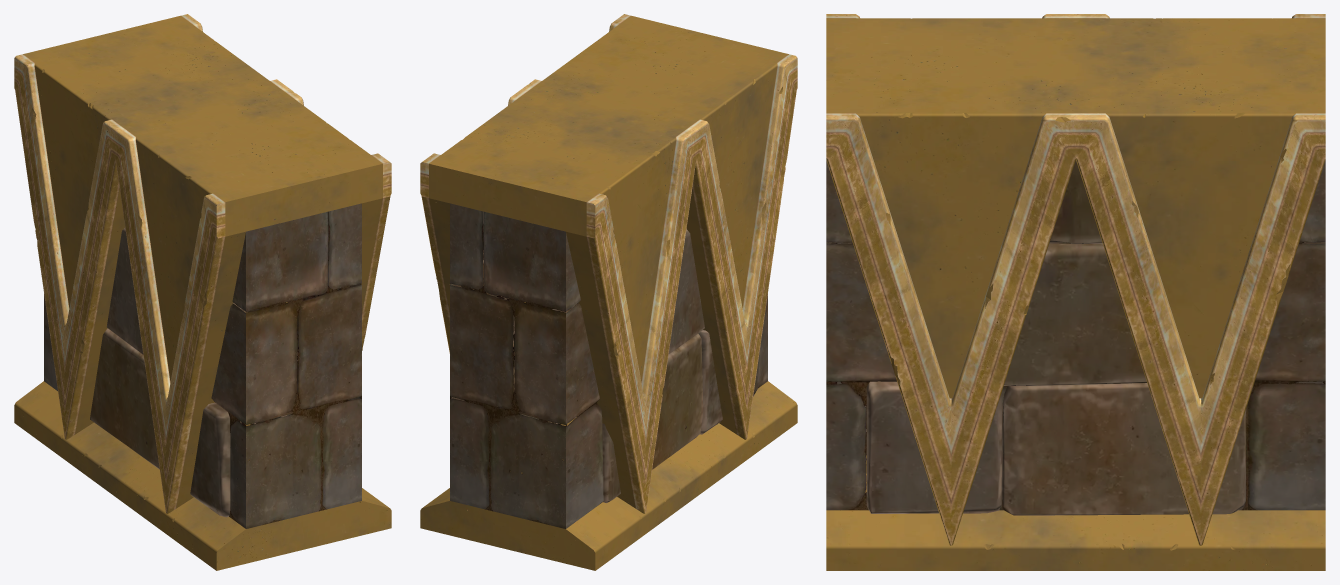
The picture shows the model from 3 angles, left to right: view 1: azimuth 30°, elevation 25°; view 2: azimuth 150°, elevation 25°; view 3: azimuth 270°, elevation 25°; orthographic projection. The views are drawn at different scales.
Parts seen in each view (by area): view 1: SM_DK_4m_FloorWall_02_LOD0; view 2: SM_DK_4m_FloorWall_02_LOD0; view 3: SM_DK_4m_FloorWall_02_LOD0.
Boxes of the visible parts, bbox=[...] form: SM_DK_4m_FloorWall_02_LOD0: bbox=[14, 14, 391, 570]; SM_DK_4m_FloorWall_02_LOD0: bbox=[420, 14, 797, 570]; SM_DK_4m_FloorWall_02_LOD0: bbox=[826, 14, 1325, 570].
Size of the model in its own units: 2 by 4 by 4.
4 materials, 4 textured.
